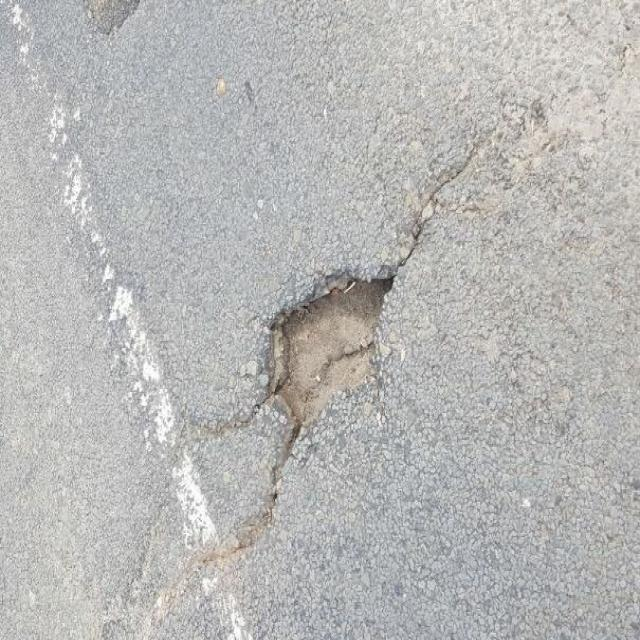pothole: (252, 253, 401, 444)
